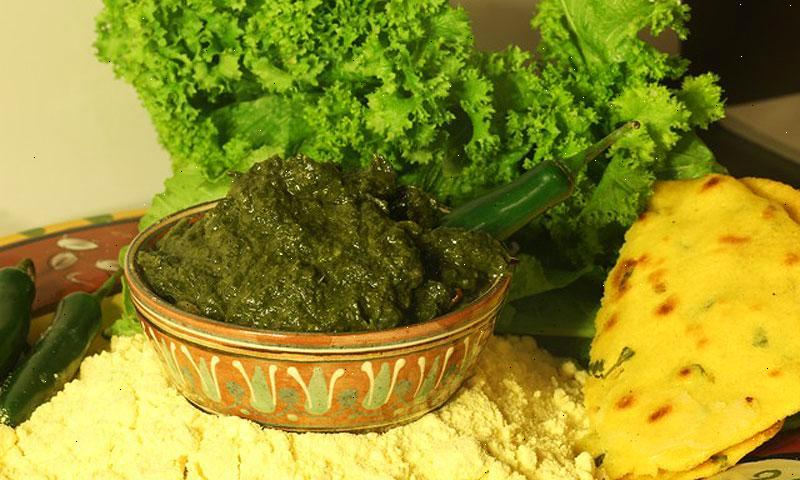saag: (175, 166, 472, 334)
